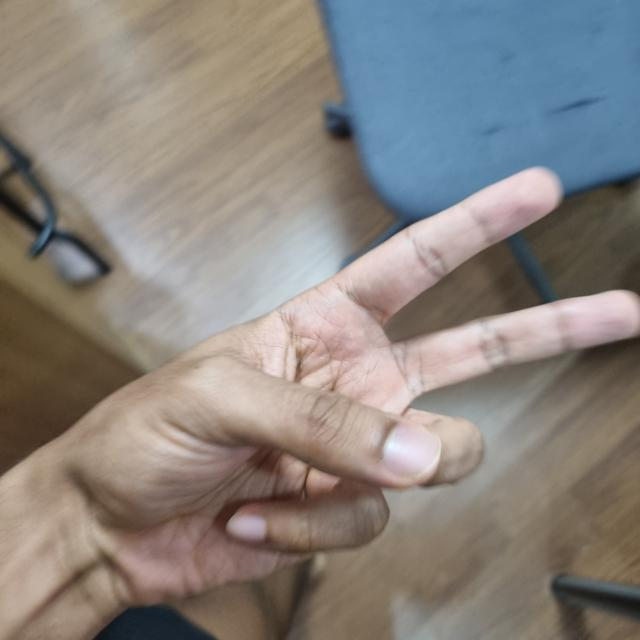Scissors: (75, 171, 637, 593)
